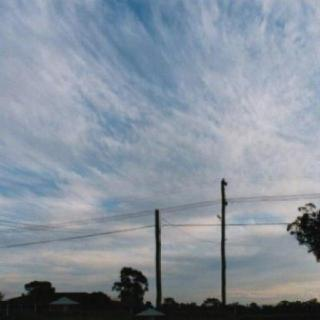Cirrocumulus: (6, 9, 320, 217)
